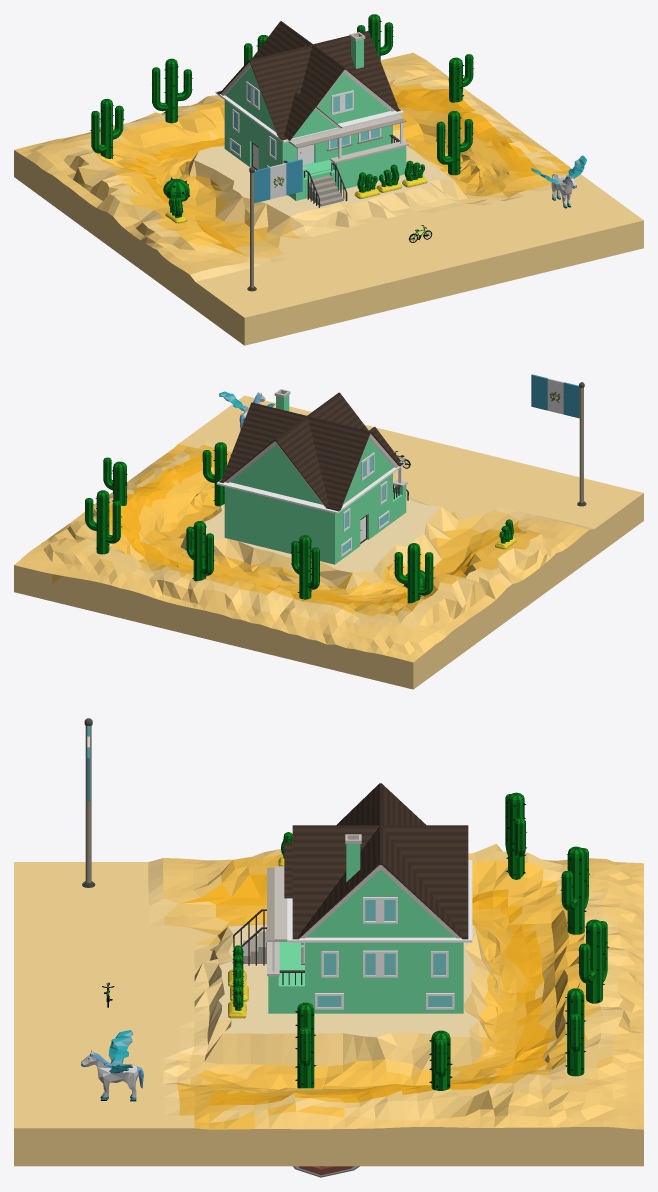
3 views of the same model, one above another, from view 1: azimuth 30°, elevation 25°; view 2: azimuth 150°, elevation 25°; view 3: azimuth 270°, elevation 25° (orthographic). The views are drawn at different scales.
Parts seen in each view (by area): view 1: Cube.001, Cube.352, OBJRANDOM_GUATEMALAN_FLAG, Cylinder.044, Cylinder.037, Cylinder.045, ANIMAL_PEGASO, Cylinder.038, Cylinder.042, Cylinder.041, Cylinder.039, Sphere.023; view 2: Cube.001, Cube.352, OBJRANDOM_GUATEMALAN_FLAG, Cylinder.042, Cylinder.045, Cylinder.044, Cylinder.043, Cylinder.037, Cylinder.038; view 3: Cube.001, Cube.352, Cylinder.044, Cylinder.043, ANIMAL_PEGASO, Cylinder.045, Cylinder.042, Cylinder.037, OBJRANDOM_GUATEMALAN_FLAG, Cylinder.038.
Part boxes in pixels (<box>): Cube.001: <box>14,52,643,345</box>; Cube.352: <box>215,21,408,207</box>; OBJRANDOM_GUATEMALAN_FLAG: <box>247,159,302,291</box>; Cylinder.044: <box>152,58,192,123</box>; Cylinder.037: <box>436,111,473,175</box>; Cylinder.045: <box>90,98,124,158</box>; ANIMAL_PEGASO: <box>531,155,586,208</box>; Cylinder.038: <box>448,54,473,102</box>; Cylinder.042: <box>357,14,393,60</box>; Cylinder.041: <box>402,160,427,187</box>; Cylinder.039: <box>354,172,380,198</box>; Sphere.023: <box>163,177,189,201</box>; Cube.001: <box>14,395,643,689</box>; Cube.352: <box>216,389,408,564</box>; OBJRANDOM_GUATEMALAN_FLAG: <box>531,374,586,506</box>; Cylinder.042: <box>85,490,121,554</box>; Cylinder.045: <box>394,543,434,603</box>; Cylinder.044: <box>291,535,319,599</box>; Cylinder.043: <box>186,521,214,581</box>; Cylinder.037: <box>202,442,231,506</box>; Cylinder.038: <box>103,457,127,505</box>; Cube.001: <box>14,844,643,1166</box>; Cube.352: <box>233,783,472,1013</box>; Cylinder.044: <box>560,846,589,934</box>; Cylinder.043: <box>578,919,608,1003</box>; ANIMAL_PEGASO: <box>81,1030,143,1101</box>; Cylinder.045: <box>505,792,526,879</box>; Cylinder.042: <box>565,988,585,1076</box>; Cylinder.037: <box>295,1002,316,1088</box>; OBJRANDOM_GUATEMALAN_FLAG: <box>82,718,95,887</box>; Cylinder.038: <box>429,1030,452,1090</box>.
Size of the model in its own units: 4002 by 2343 by 4001.
41 materials, 2 textured.
